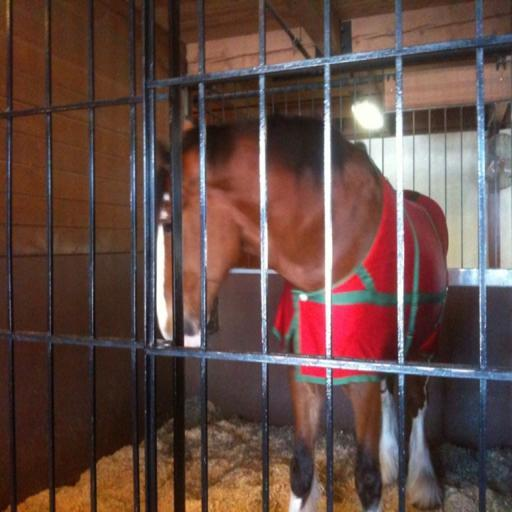Horse: (150, 114, 446, 511)
